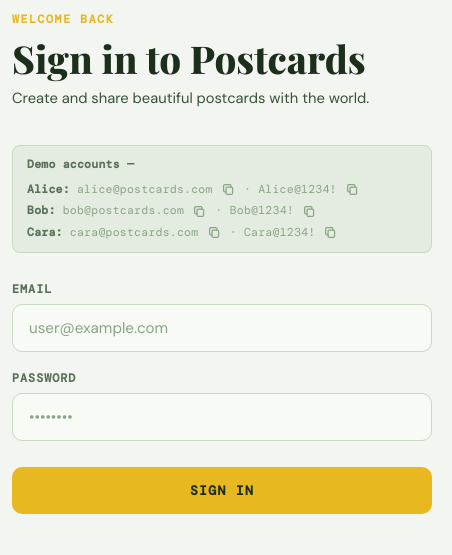
it: LoginForm › shows error for invalid email format
Type "notanemail" into the field labelled "Email". click: point(222, 328)
box: left=12, top=304, right=432, bottom=352
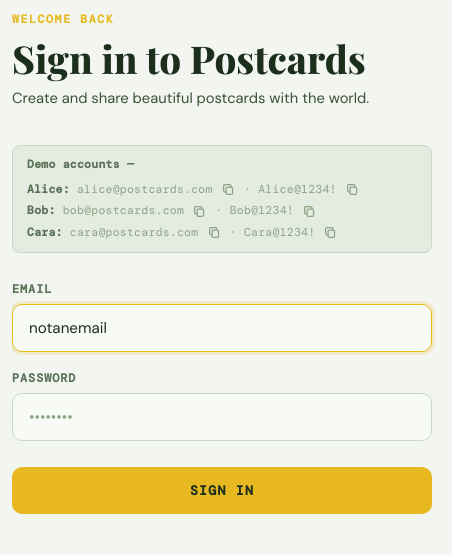
Type "password123" into the password field labelled "Password". click: point(222, 417)
box: left=12, top=393, right=432, bottom=441
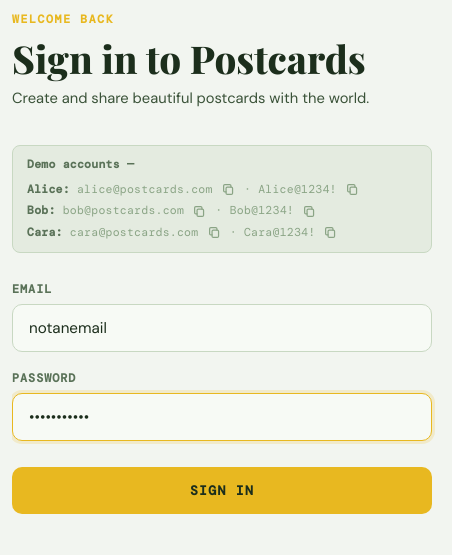
Click the button "Sign In". click: point(222, 490)
box: left=12, top=467, right=432, bottom=514
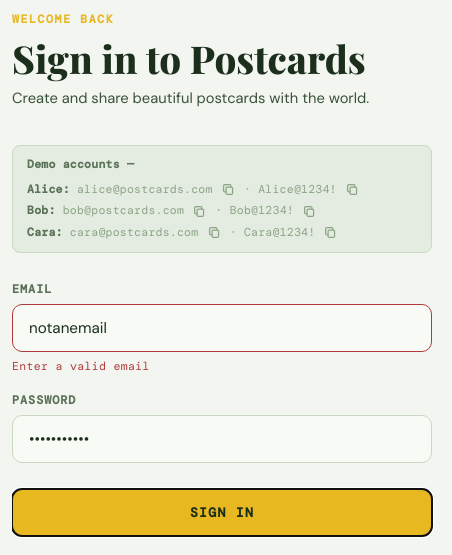
Expected: the text "Enter a valid email" is shown, left=12, top=359, right=150, bottom=374
